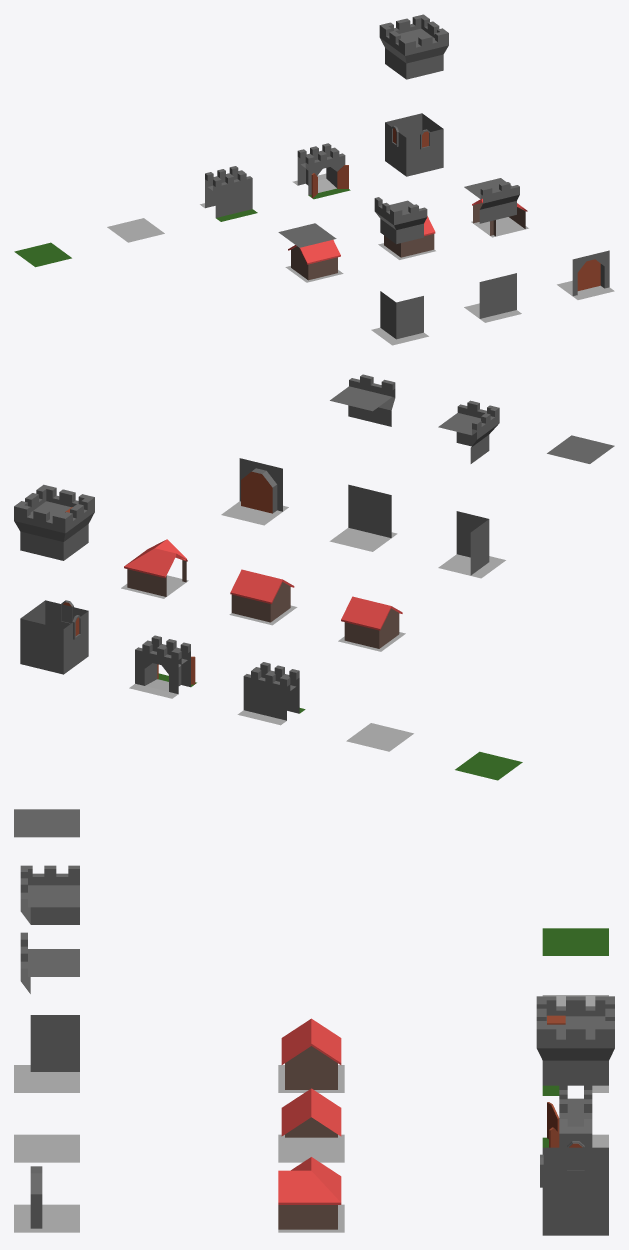
Rendered from Town.fbx.
3 views of the same model, one above another, from view 1: azimuth 30°, elevation 25°; view 2: azimuth 150°, elevation 25°; view 3: azimuth 270°, elevation 25° (orthographic). The views are drawn at different scales.
Visible parts, largest first — view 1: TowerTop, TowerBottomEdge, WallGate, Wall, CastleBottomEdge, CastleEdge, CastleGate, CastleWall, SmallBuilding, CastleWallTop, BuildingEnd, BuildingCorner (+3 smaller); view 2: TowerTop, TowerBottomEdge, WallGate, Wall, CastleGate, CastleWall, BuildingEnd, SmallBuilding, BuildingCorner, CastleBottomEdge, CastleWallTop, CastleEdge (+3 smaller); view 3: TowerTop, TowerBottomEdge, BuildingCorner, CastleBottomEdge, SmallBuilding, BuildingEnd, CastleEdge, WallGate, CastleGate, CastleWallTop, CastleWall, CastleTop (+1 smaller).
Part boxes in pixels (box(x1,y1,x2,y2)): TowerTop: box(379, 14, 448, 79); TowerBottomEdge: box(385, 113, 443, 176); WallGate: box(292, 143, 350, 199); Wall: box(200, 166, 257, 221); CastleBottomEdge: box(371, 291, 428, 345); CastleEdge: box(374, 197, 427, 244); CastleGate: box(557, 250, 614, 299); CastleWall: box(464, 273, 521, 322); SmallBuilding: box(285, 240, 343, 282); CastleWallTop: box(464, 178, 519, 223); BuildingEnd: box(378, 216, 435, 259); BuildingCorner: box(471, 198, 528, 237); TowerTop: box(14, 484, 94, 560); TowerBottomEdge: box(20, 600, 88, 674); WallGate: box(129, 635, 196, 698); Wall: box(237, 662, 305, 725); CastleGate: box(221, 458, 288, 525); CastleWall: box(329, 484, 397, 551); BuildingEnd: box(229, 569, 297, 625); SmallBuilding: box(338, 596, 405, 651); BuildingCorner: box(121, 539, 188, 598); CastleBottomEdge: box(438, 511, 505, 578); CastleWallTop: box(330, 374, 395, 426); CastleEdge: box(438, 400, 499, 463); TowerTop: box(536, 996, 614, 1085); TowerBottomEdge: box(540, 1141, 608, 1235); BuildingCorner: box(278, 1157, 344, 1232); CastleBottomEdge: box(14, 1015, 79, 1092); SmallBuilding: box(278, 1018, 344, 1092); BuildingEnd: box(278, 1088, 344, 1162); CastleEdge: box(20, 865, 79, 924); WallGate: box(542, 1085, 608, 1147); CastleGate: box(14, 1166, 79, 1232); CastleWallTop: box(20, 932, 79, 993); CastleWall: box(14, 1134, 79, 1162); CastleTop: box(14, 809, 79, 837).
Bounding box in the file's own units: 2218 × 697 × 1818.
